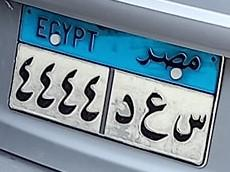4: (79, 74, 106, 124), (35, 61, 56, 112), (57, 67, 78, 117), (14, 56, 34, 106)
ain: (140, 93, 169, 143)
daal: (112, 94, 138, 128)
seen: (172, 108, 208, 145)
